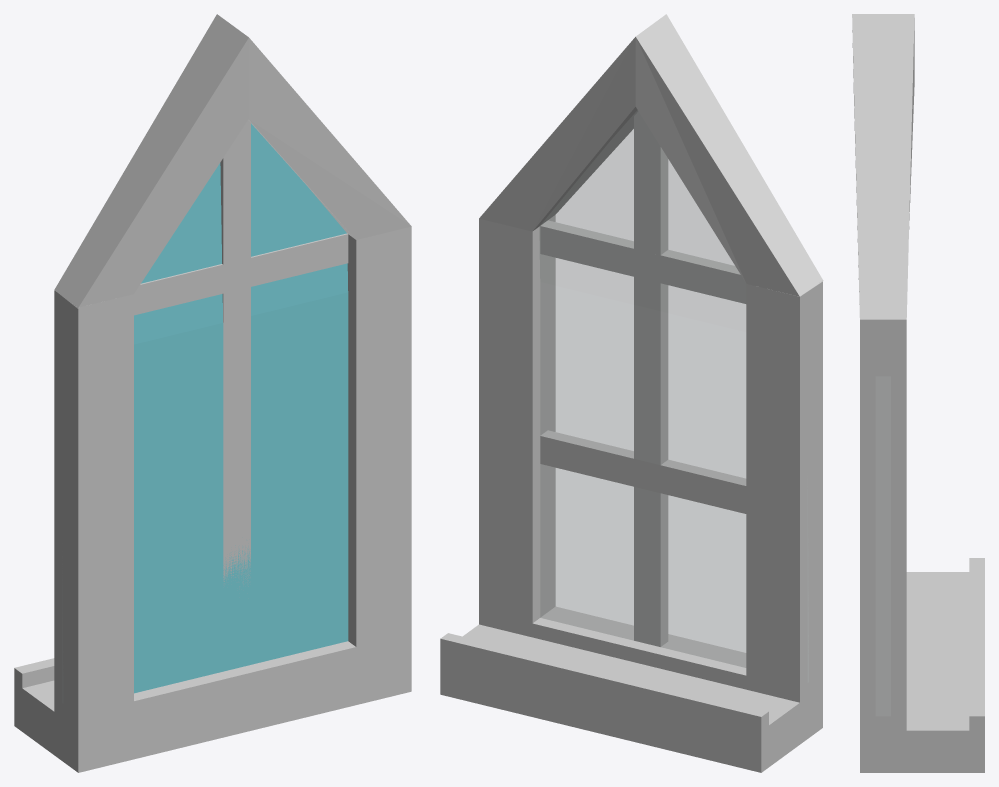
The model's file is scene_GfoIO5llSa.glb.
3 renders of one model, left to right at view 1: azimuth 30°, elevation 25°; view 2: azimuth 150°, elevation 25°; view 3: azimuth 270°, elevation 25°, orthographic. The views are drawn at different scales.
Parts seen in each view (by area): view 1: Node; view 2: Node; view 3: Node.
Boxes of the visible parts, bbox=[...] form: Node: bbox=[14, 14, 411, 772]; Node: bbox=[440, 14, 823, 772]; Node: bbox=[852, 14, 984, 772].
Bounding box in the file's own units: 0.2404 × 0.48 × 0.085.
